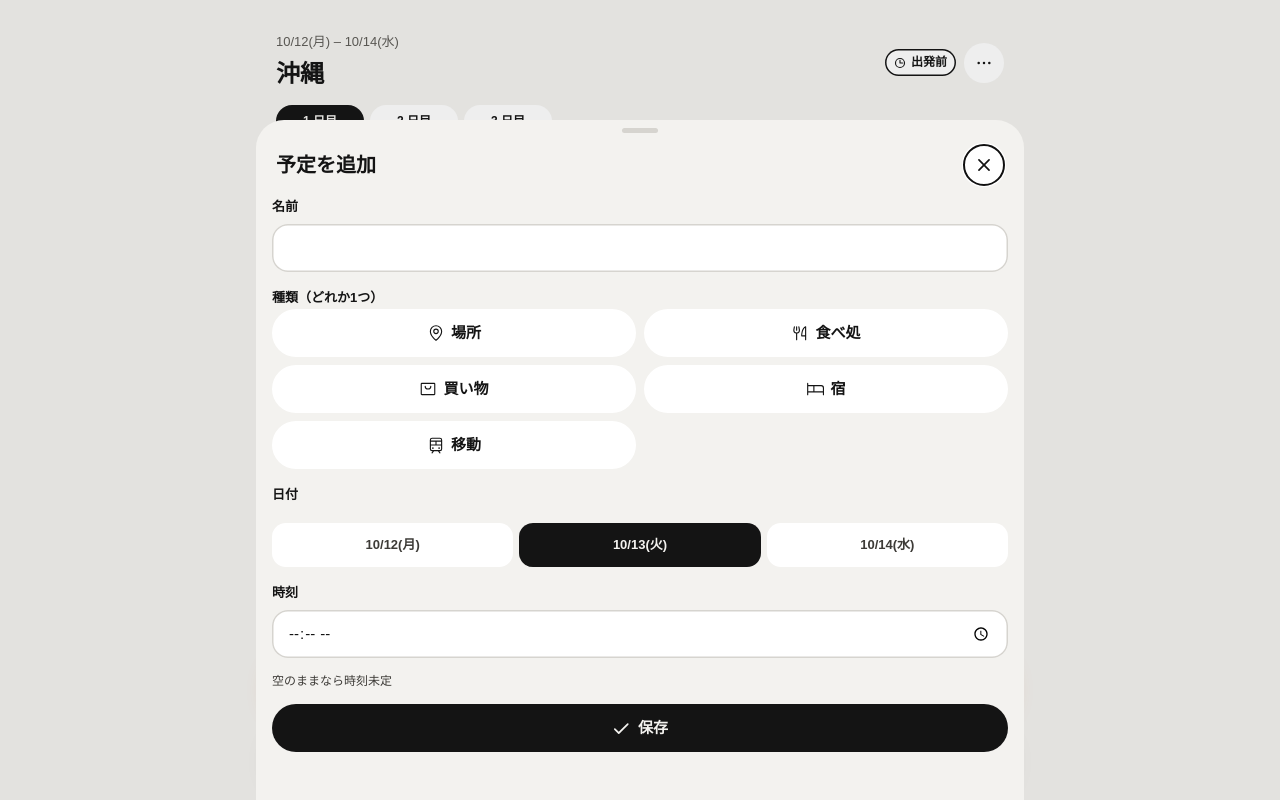
Scenario: PlanFormScreen（追加 /trips/{id}/plans/new） › 「時刻を消す」で欄を空にして焦点を戻す。空のときはボタンが無い
Type "09:30" into the time field named "時刻". click: (640, 634)
box: [272, 610, 1008, 658]
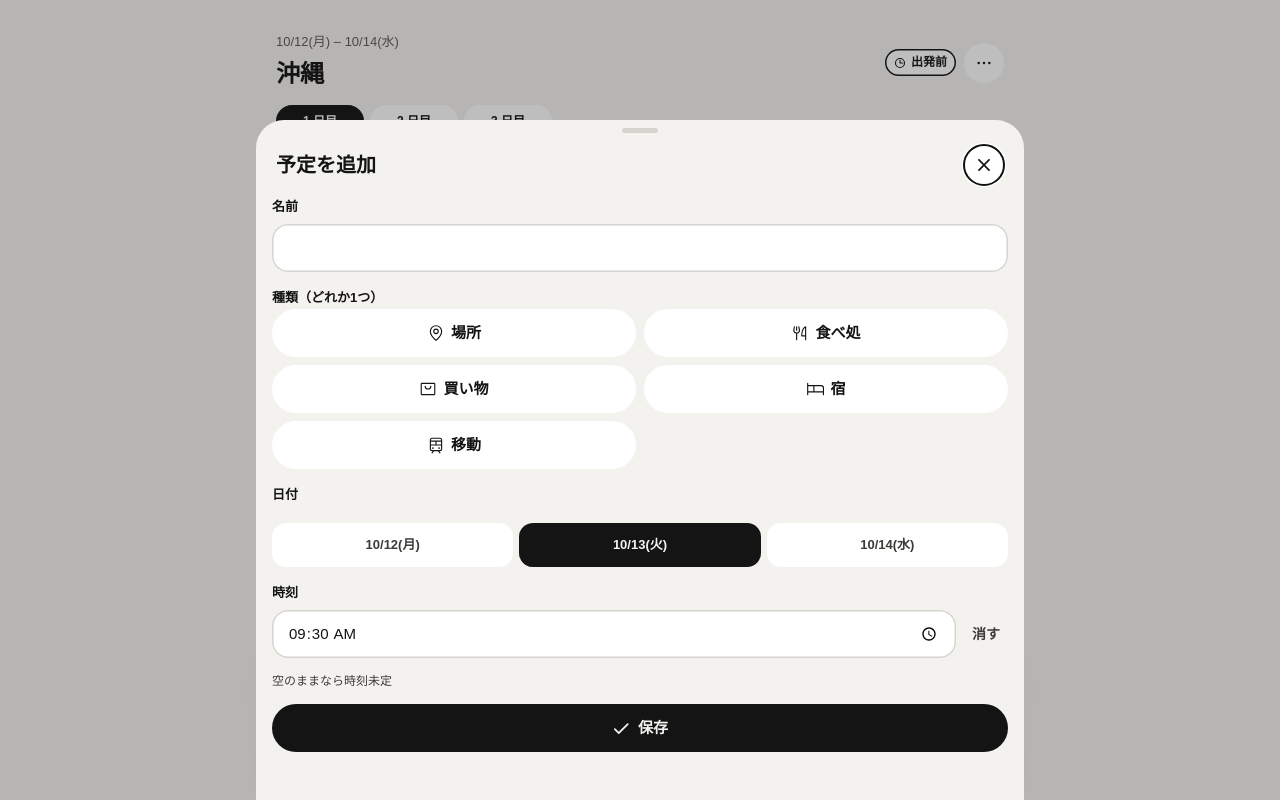
Click the button with aria-label "時刻を消す". click: (986, 634)
box: [964, 615, 1008, 653]
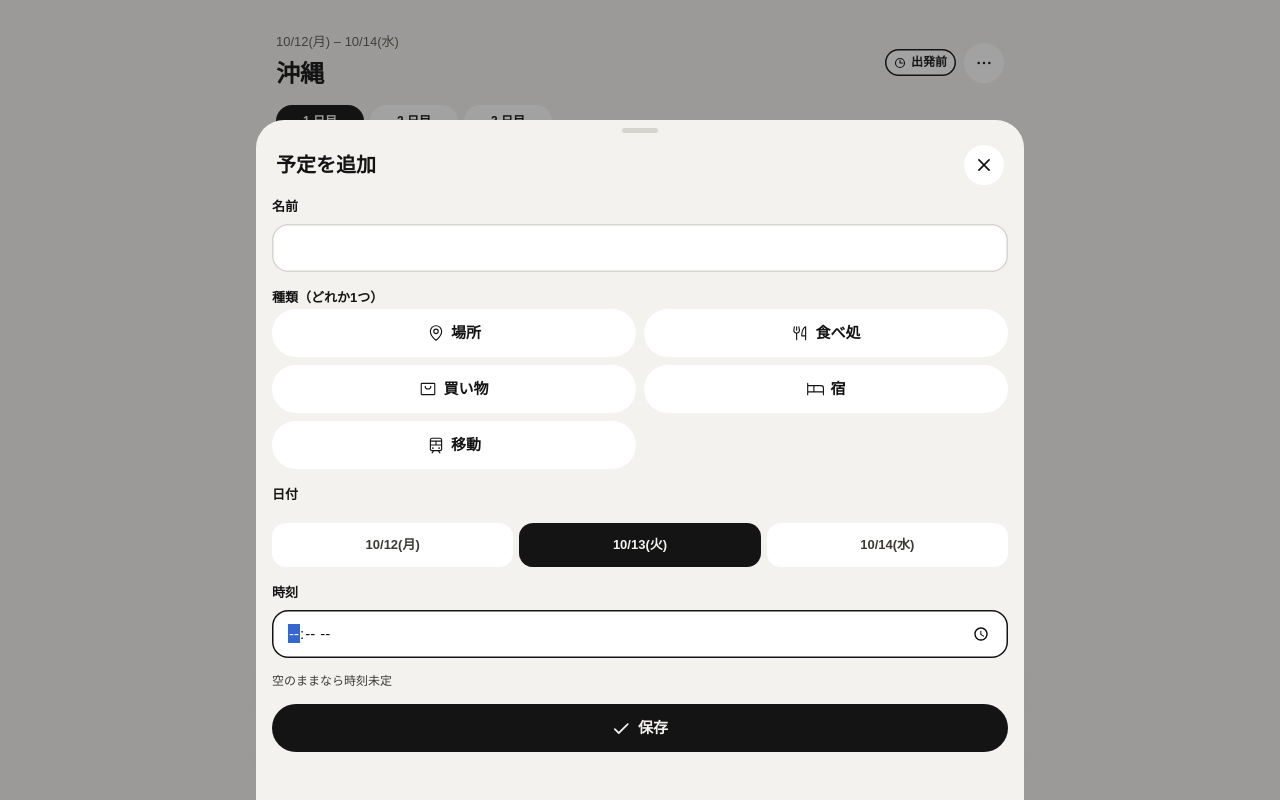
Expected: the time field named "時刻" is empty, [272, 610, 1008, 658]
Expected: the button "時刻を消す" is gone
